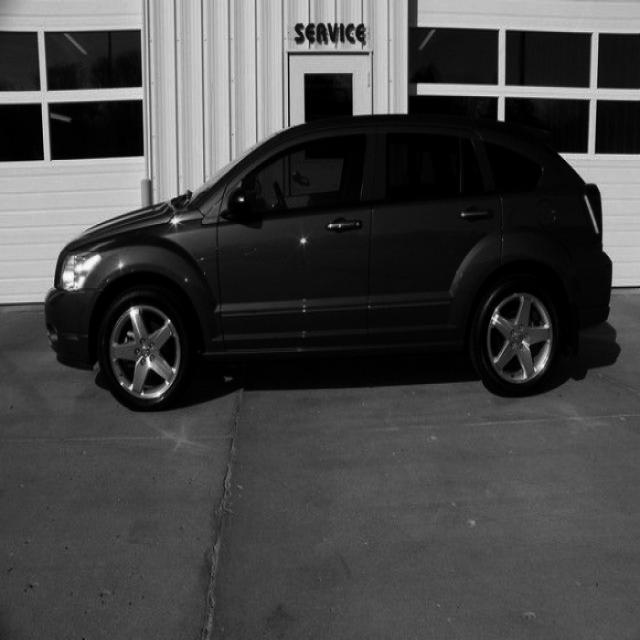car: (43, 111, 613, 411)
